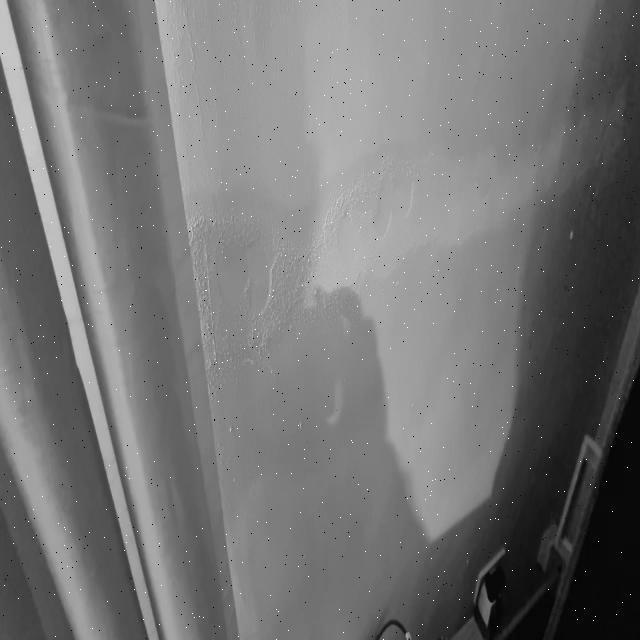stain marks: (117, 127, 636, 511)
